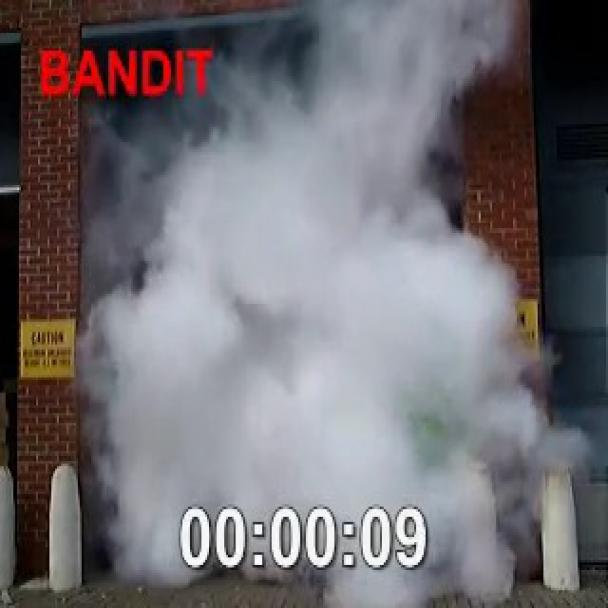smoke: (78, 0, 581, 585)
